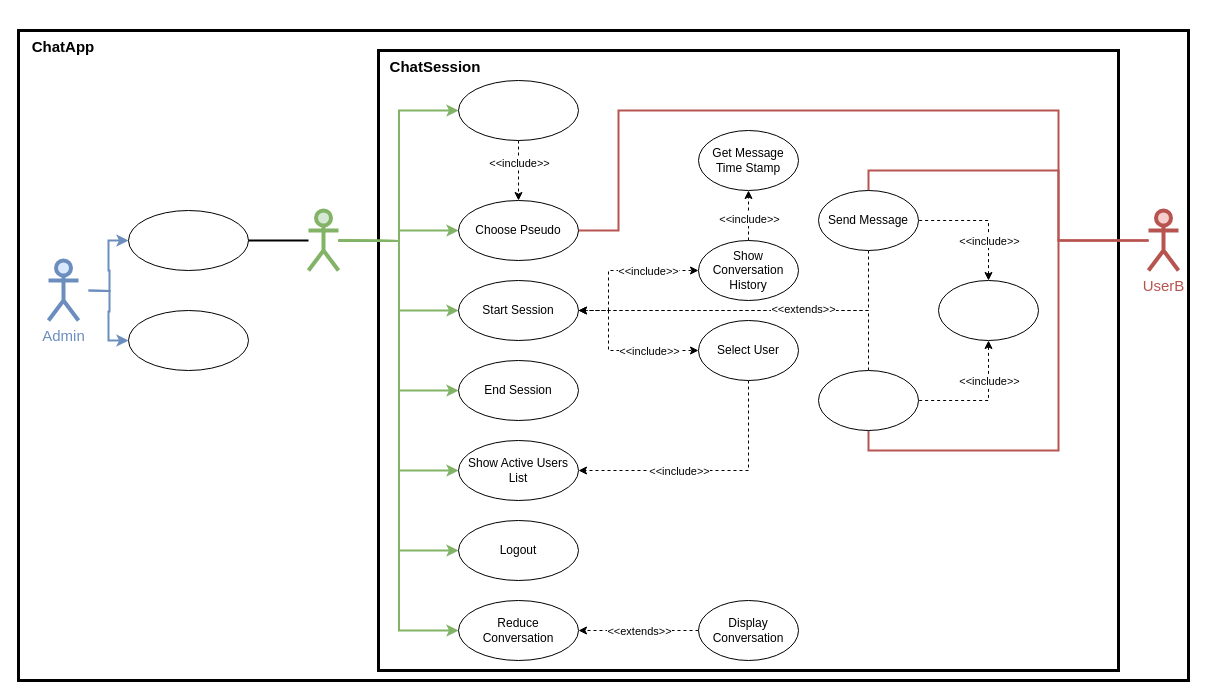
Image size: 1207x699. Some labels were removed from this diagram. The shapes that lost their labels are listed below. From the top down, each one's centre as x and y in pixels, then its label:
At point 518,110: "Login".
At point 188,240: "Install Instance".
At point 323,240: "UserA".
At point 988,310: "Time Stamp".
At point 188,340: "Deploy App".
At point 868,400: "Send File".
